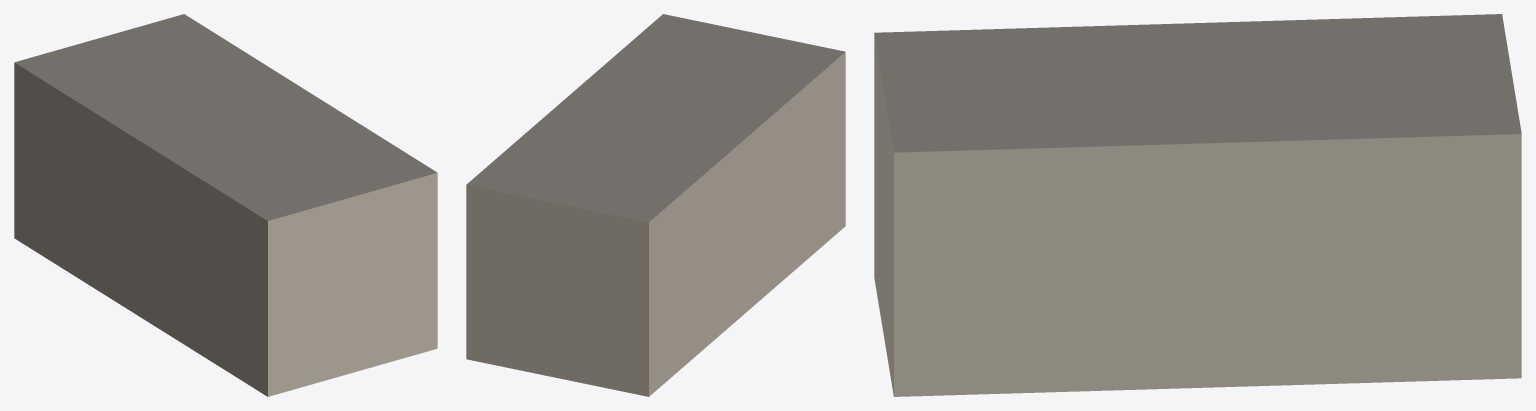
3 renders of one model, left to right at view 1: azimuth 30°, elevation 25°; view 2: azimuth 150°, elevation 25°; view 3: azimuth 270°, elevation 25°, orthographic. The views are drawn at different scales.
Parts seen in each view (by area): view 1: HP-w369317578; view 2: HP-w369317578; view 3: HP-w369317578.
Part boxes in pixels (left/top/right/bottom): HP-w369317578: left=14, top=14, right=437, bottom=396; HP-w369317578: left=466, top=14, right=845, bottom=396; HP-w369317578: left=874, top=14, right=1521, bottom=396.
Bounding box in the file's own units: 14.61 × 12 × 28.83.
